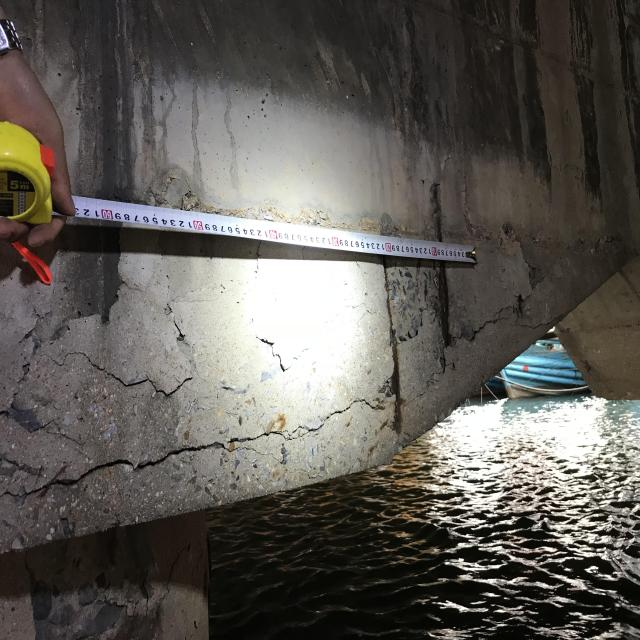Rebar: (382, 257, 410, 428), (428, 178, 454, 347)
diagonal crack: (253, 334, 301, 371)
horizontal crack: (0, 396, 381, 508), (40, 350, 194, 400), (455, 306, 562, 348)
